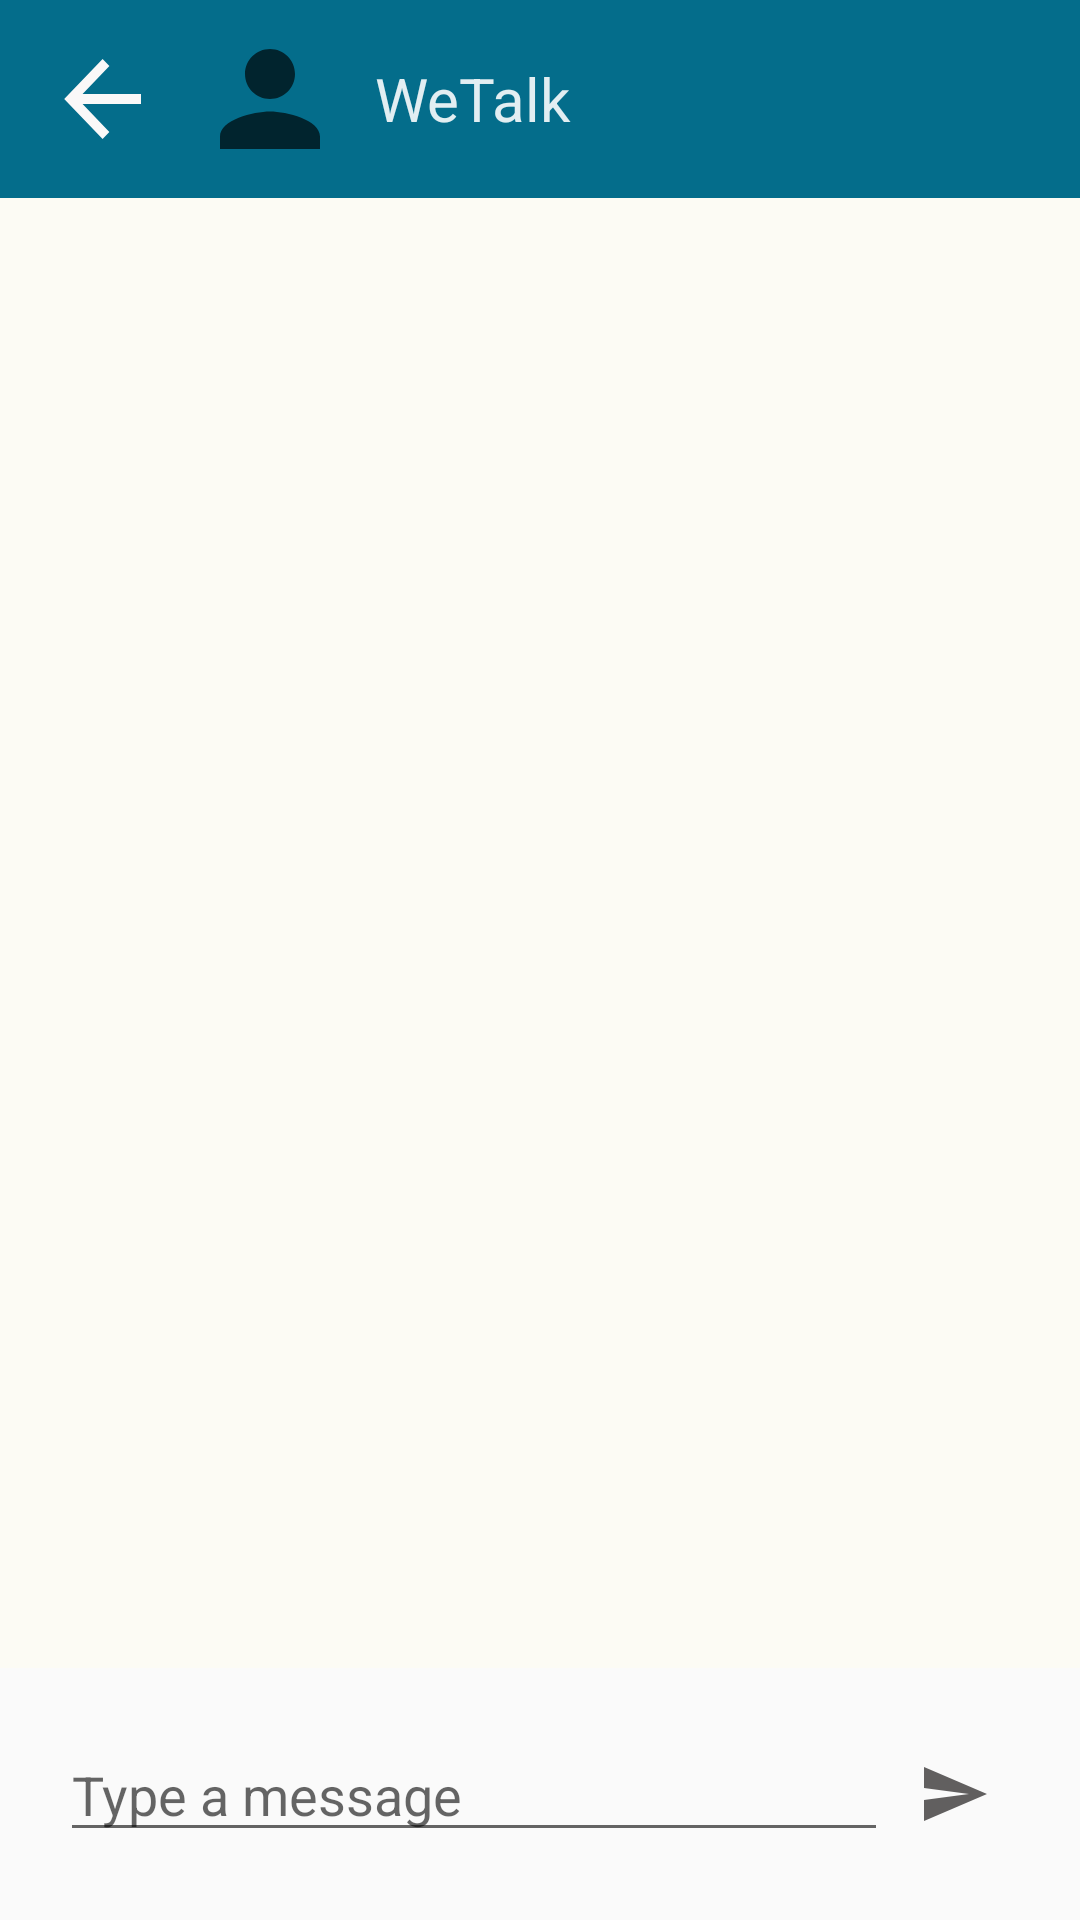

Named icons in this screenshot (1080px×1920px) and their bounding boxes, (x1, y1, x2, y2):
back: (64, 59, 141, 139)
send: (924, 1767, 987, 1821)
